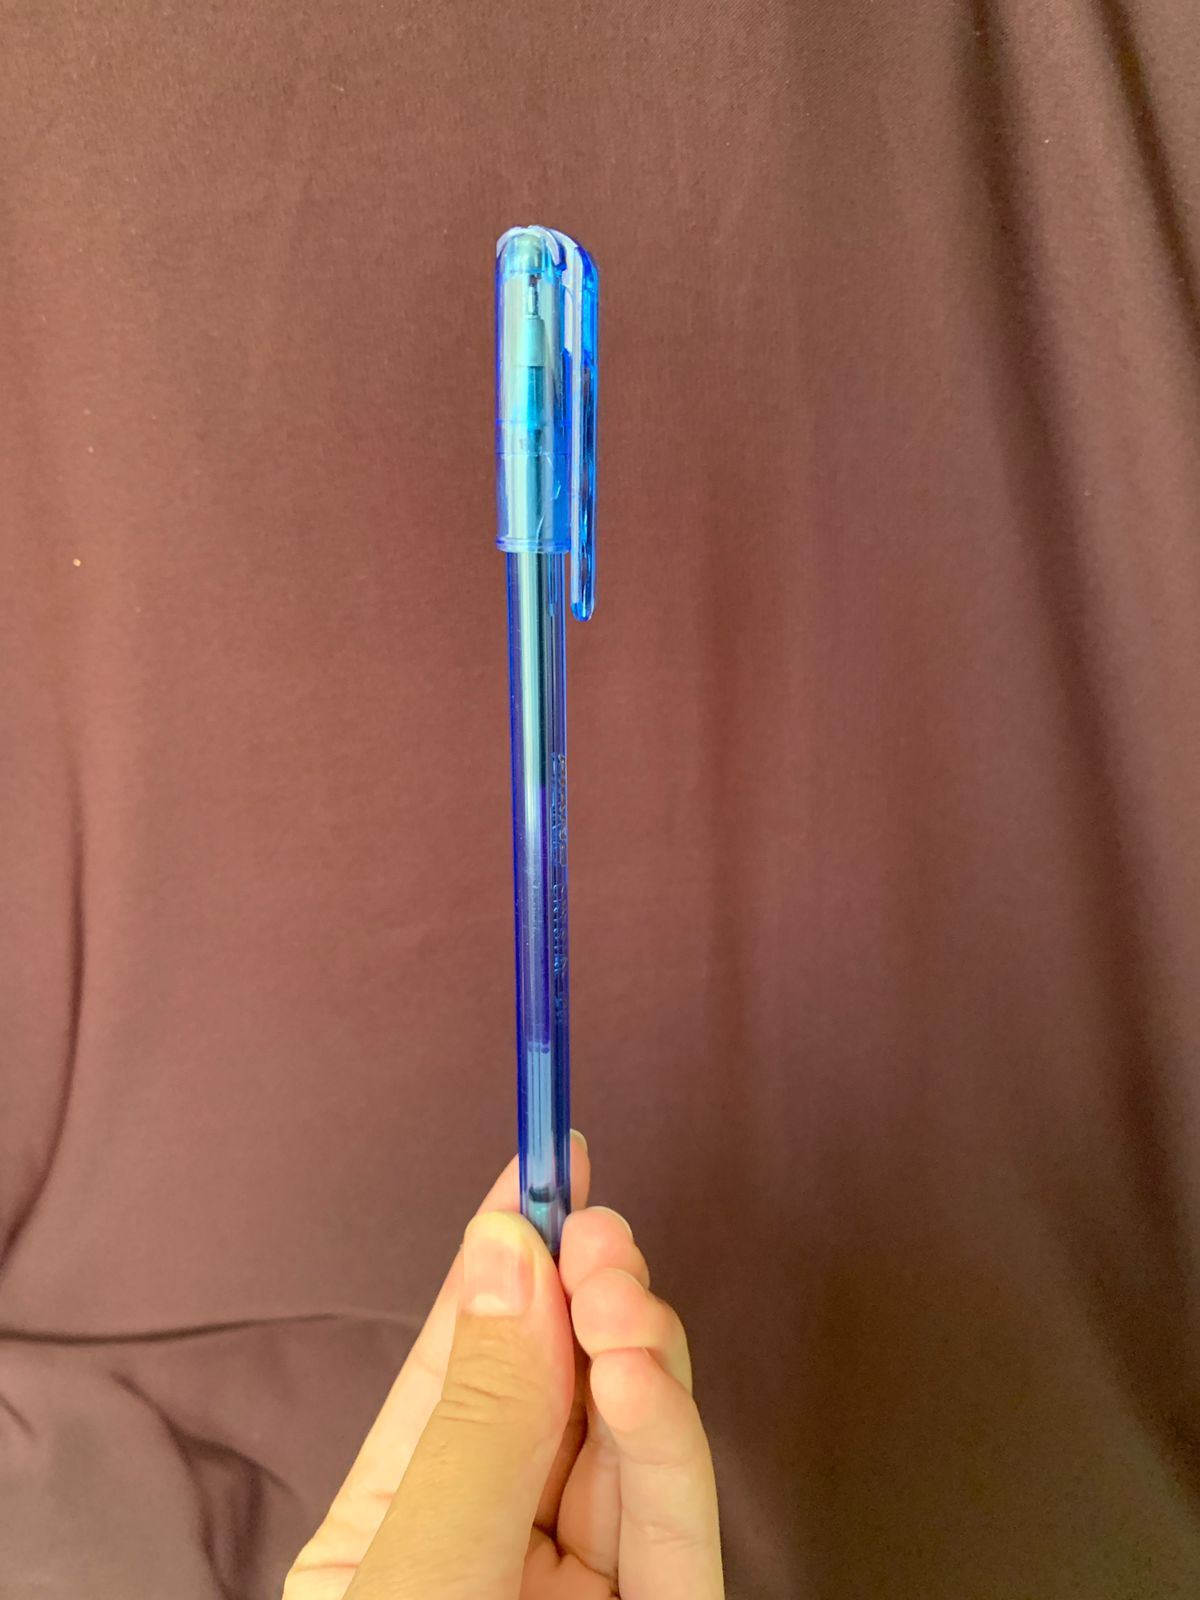pen: (344, 89, 811, 1381)
